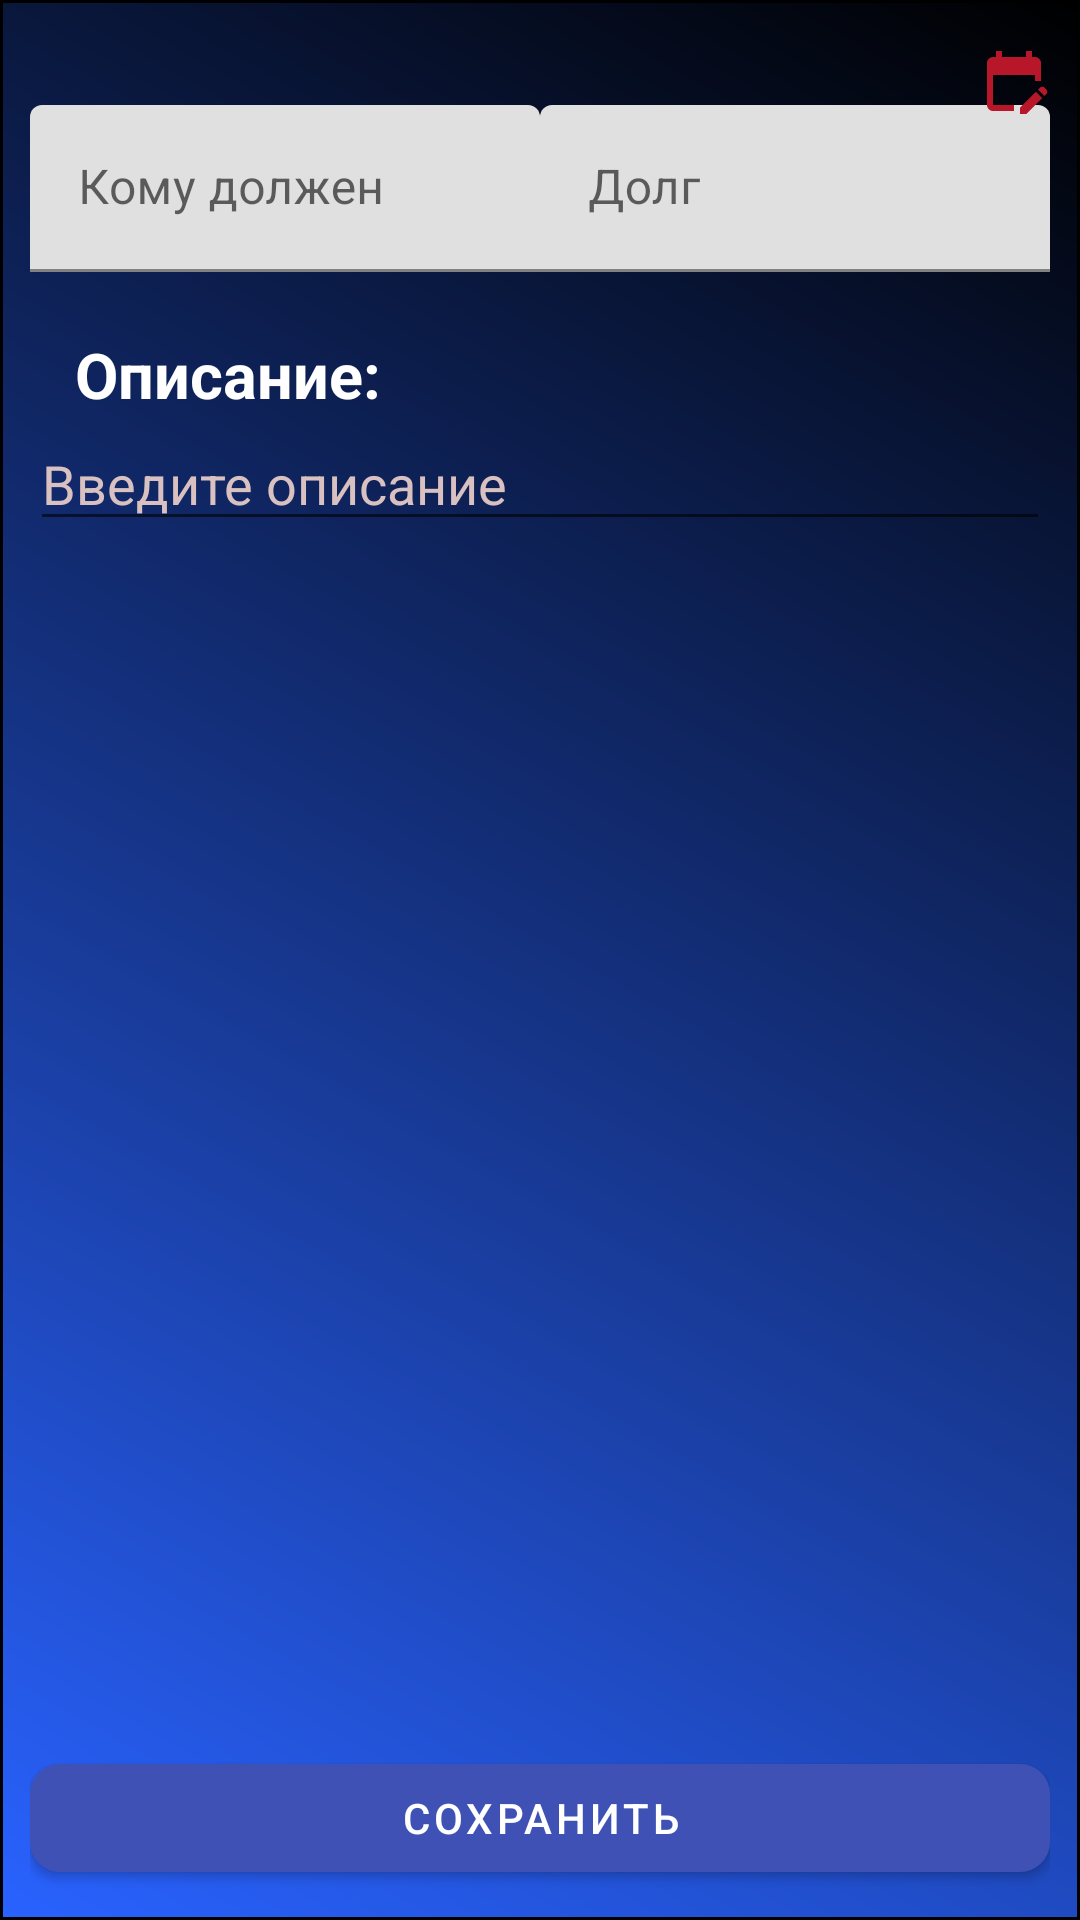

Named icons in this screenshot (1080x1920) and their bounding boxes, region(x1, y1, x2, y2):
edit calendar: region(978, 51, 1050, 117)
